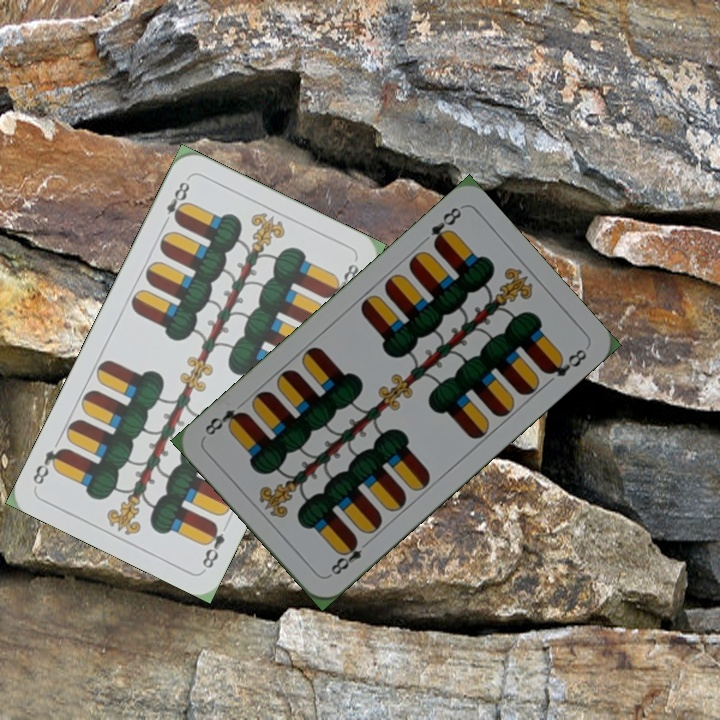E8: (324, 534, 373, 580), (426, 203, 464, 251), (158, 177, 193, 229), (198, 519, 228, 572)
